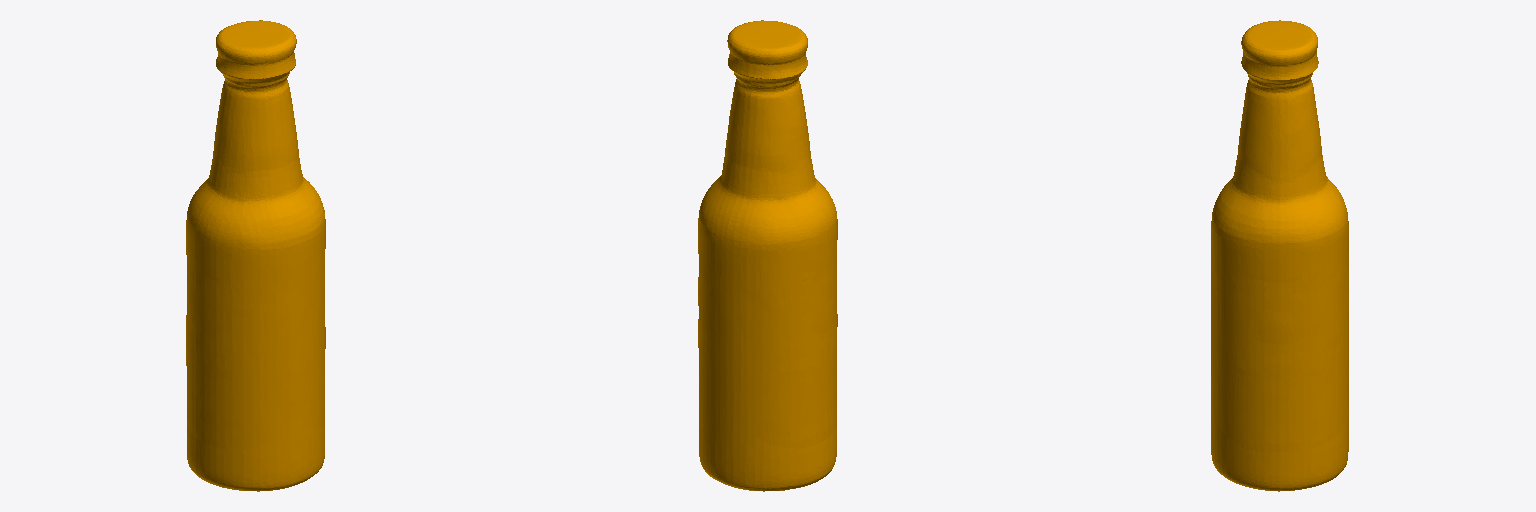
URDF robot description (sample):
<?xml version="1.0" ?>
<robot name="sample">
   <link name="sample">
      <visual>
         <origin xyz="0 0 0" rpy="1.5708 0.0 0.0"/>
         <geometry>
            <mesh filename="mesh/sample.obj" scale="1.0 1.0 1.0"/>
         </geometry>
      </visual>
      <collision>
         <origin xyz="0 0 0" rpy="1.5708 0.0 0.0"/>
         <geometry>
            <mesh filename="mesh/sample_collision.obj" scale="1.0 1.0 1.0"/>
         </geometry>
         <gazebo>
            <mu1>0.60</mu1>
            <mu2>0.50</mu2>
         </gazebo>
      </collision>
      <inertial>
         <mass value="0.6000"/>
         <origin xyz="0 0 0"/>
         <inertia ixx="1.0" ixy="0.0" ixz="0.0" iyy="1.0" iyz="0.0" izz="1.0"/>
      </inertial>
      <extra_info>
         <scale>0.275000</scale>
         <version>v0.1.7</version>
         <category>beer bottle</category>
         <description>dark glass bottle with yellow label and cap</description>
         <min_height>0.25</min_height>
         <max_height>0.3</max_height>
         <real_height>0.275</real_height>
         <min_mass>0.5</min_mass>
         <max_mass>0.7</max_mass>
         <generate_time>20260228152916</generate_time>
         <gs_model>mesh/sample_gs.ply</gs_model>
      </extra_info>
   </link>
   <custom_data>
      <quality>
         <MeshGeoChecker>YES</MeshGeoChecker>
         <ImageSegChecker>NO, object is not centered and background artifacts are present.</ImageSegChecker>
         <ImageAestheticChecker>4.782503843307495</ImageAestheticChecker>
         <overall>NO</overall>
      </quality>
   </custom_data>
</robot>

--- What the picture shows (computed from the rendered views, not written in the file) ---
The picture shows the robot from 3 angles, left to right: view 1: azimuth 30°, elevation 25°; view 2: azimuth 150°, elevation 25°; view 3: azimuth 270°, elevation 25°; orthographic projection.
Model sample with 1 links and 0 joints (none), rooted at sample, posed every joint at zero.
Links seen in each view (by area): view 1: sample; view 2: sample; view 3: sample.
Boxes of the visible links, x1=… form: sample: x1=186, y1=20, x2=325, y2=491; sample: x1=698, y1=20, x2=837, y2=491; sample: x1=1211, y1=20, x2=1348, y2=491.
Bounding box of the posed robot: 0.0804 × 0.08 × 0.275 m (x, y, z).
Meshes: 1 distinct files referenced, 1 mesh visuals loaded (1 OBJ).
